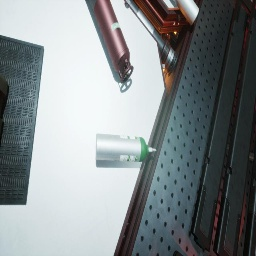0: (96, 133, 156, 162), (173, 0, 199, 26)
NitrogenTank ,: (88, 0, 134, 84)
